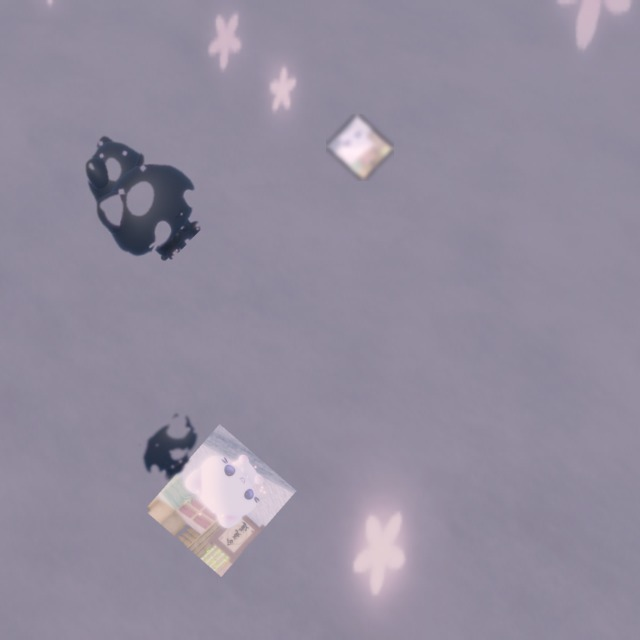urso_branco: (144, 424, 297, 577), (326, 114, 394, 181)
urso_preto: (45, 101, 228, 283), (119, 395, 222, 500)
